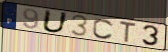3: (141, 24, 162, 47), (70, 13, 89, 37)
9: (22, 8, 40, 30)
C: (92, 18, 115, 41)
T: (118, 20, 138, 44)
U: (41, 9, 70, 34)
